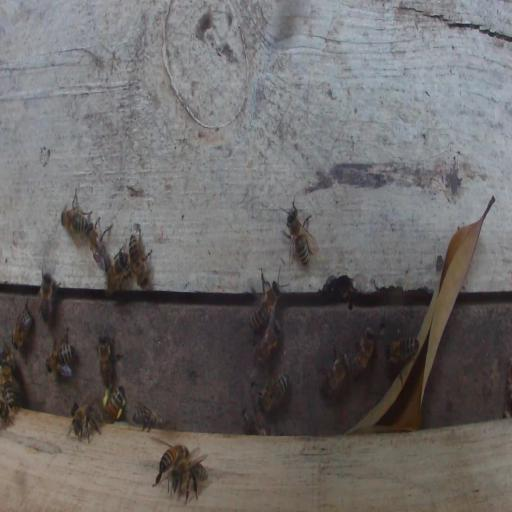nonpollenbee: (284, 197, 317, 267), (61, 189, 92, 243), (45, 326, 75, 379), (128, 225, 152, 290), (318, 351, 349, 397), (36, 269, 61, 326), (155, 444, 189, 485), (71, 402, 102, 444), (350, 324, 375, 376), (251, 282, 279, 328), (252, 321, 281, 365), (258, 372, 289, 413), (86, 217, 112, 265), (106, 247, 130, 293), (11, 302, 33, 352), (385, 335, 420, 366), (171, 462, 208, 491), (132, 403, 169, 431), (97, 330, 113, 385), (241, 408, 267, 435), (1, 368, 14, 411), (1, 343, 16, 375), (1, 403, 8, 423)
pollenbee: (104, 386, 125, 426)
